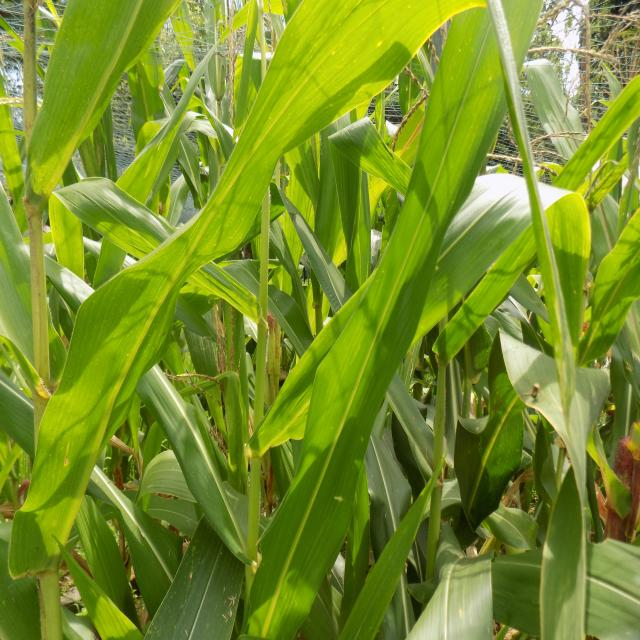millet_healthy: (5, 2, 516, 597), (243, 0, 540, 640), (255, 153, 628, 491), (31, 0, 172, 196)
